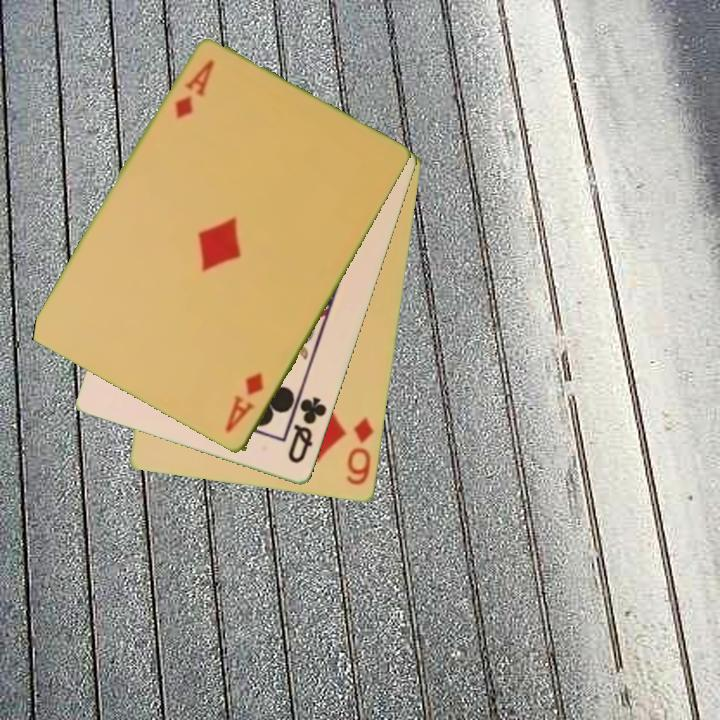6d: (343, 414, 377, 489)
Ad: (171, 56, 218, 123), (222, 370, 267, 437)
Qc: (284, 393, 330, 468)
